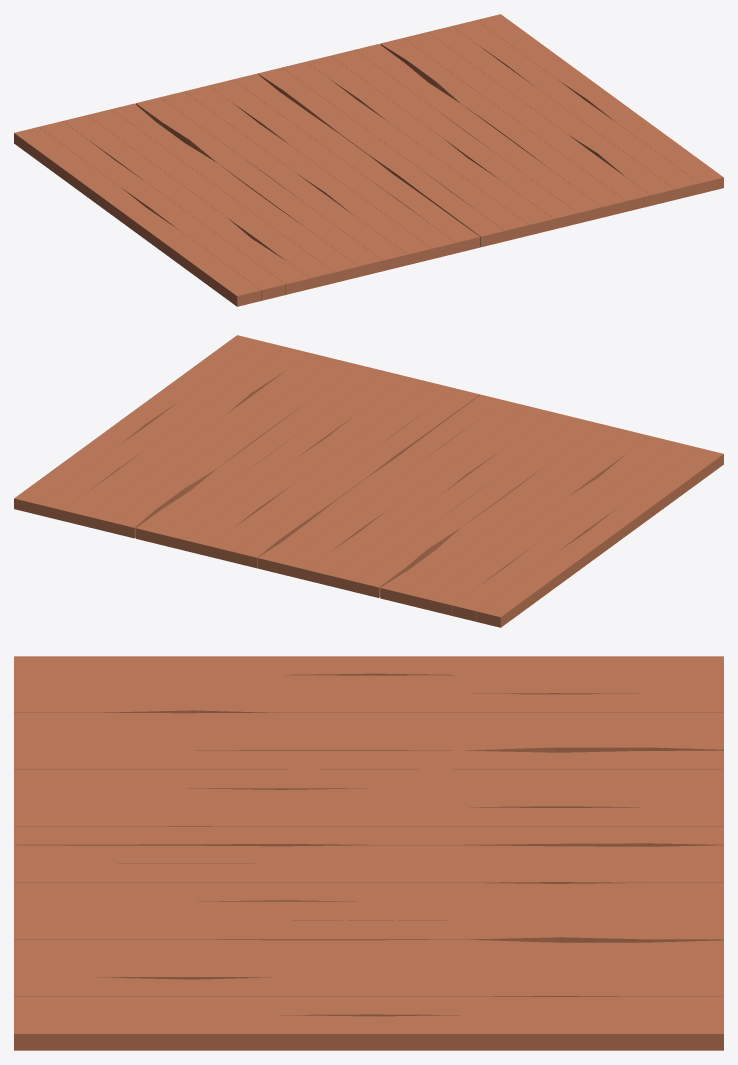
The model's file is woodenplatform2.fbx.
The picture shows the model from 3 angles, top to bottom: view 1: azimuth 30°, elevation 25°; view 2: azimuth 150°, elevation 25°; view 3: azimuth 270°, elevation 25°; orthographic projection. The views are drawn at different scales.
Parts seen in each view (by area): view 1: Cube.043; view 2: Cube.043; view 3: Cube.043.
Boxes of the visible parts, x1,y1,x2,y2 form: Cube.043: (14, 14, 723, 306); Cube.043: (14, 335, 723, 627); Cube.043: (14, 656, 723, 1050).
Size of the model in its own units: 403 by 8.38 by 320.
Materials: 1 (1 with a texture image).
